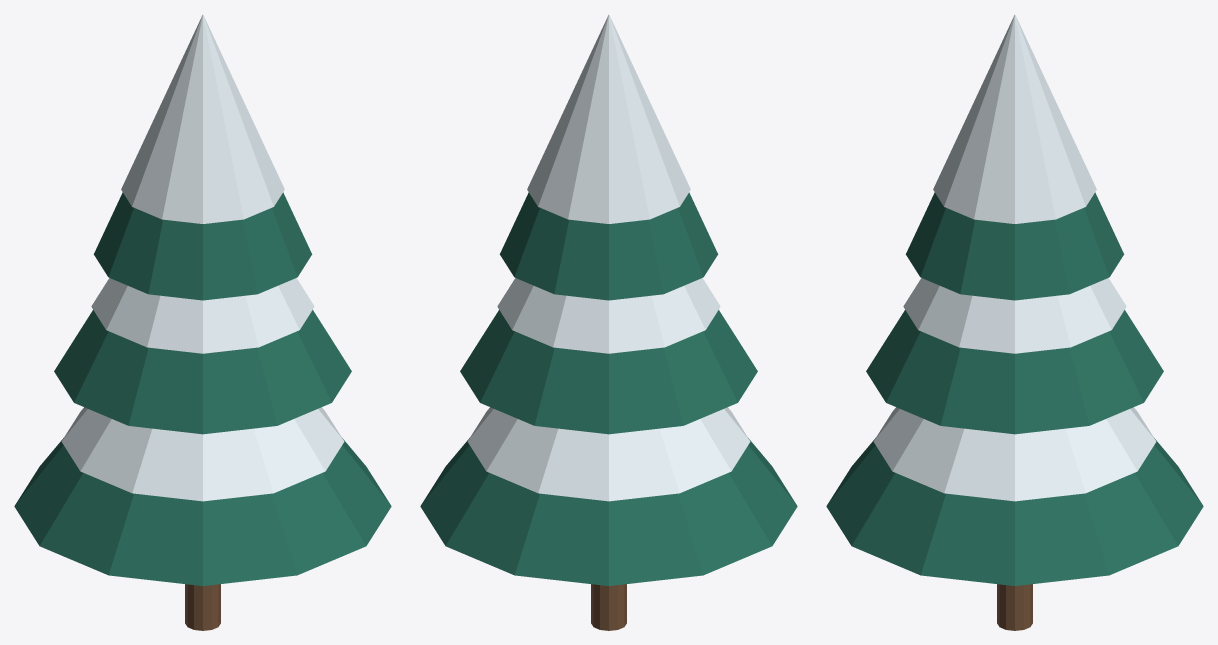
Rendered from snow-pine.glb.
3 views of the same model, side by side, from view 1: azimuth 30°, elevation 25°; view 2: azimuth 150°, elevation 25°; view 3: azimuth 270°, elevation 25° (orthographic).
Parts seen in each view (by area): view 1: Pine bough, Pine bough.001, Snow cap.002, Snow cap, Pine bough.002, Snow cap.001, Pine trunk; view 2: Pine bough, Pine bough.001, Snow cap.002, Snow cap, Pine bough.002, Snow cap.001, Pine trunk; view 3: Pine bough, Pine bough.001, Snow cap.002, Snow cap, Pine bough.002, Snow cap.001, Pine trunk.
Part boxes in pixels (box(x1,y1,x2,y2)): Pine bough: box(14, 438, 391, 585); Pine bough.001: box(54, 310, 351, 434); Snow cap.002: box(121, 14, 284, 223); Snow cap: box(61, 407, 344, 501); Pine bough.002: box(93, 192, 312, 300); Snow cap.001: box(91, 278, 314, 353); Pine trunk: box(185, 584, 220, 630); Pine bough: box(420, 438, 797, 585); Pine bough.001: box(460, 310, 757, 434); Snow cap.002: box(527, 14, 690, 223); Snow cap: box(467, 407, 750, 501); Pine bough.002: box(499, 192, 718, 300); Snow cap.001: box(497, 278, 720, 353); Pine trunk: box(591, 584, 626, 630); Pine bough: box(826, 438, 1203, 585); Pine bough.001: box(866, 310, 1163, 434); Snow cap.002: box(933, 14, 1096, 223); Snow cap: box(873, 407, 1156, 501); Pine bough.002: box(905, 192, 1124, 300); Snow cap.001: box(903, 278, 1126, 353); Pine trunk: box(997, 584, 1032, 630).
Size of the model in its own units: 3.8 by 6.77 by 3.8.
